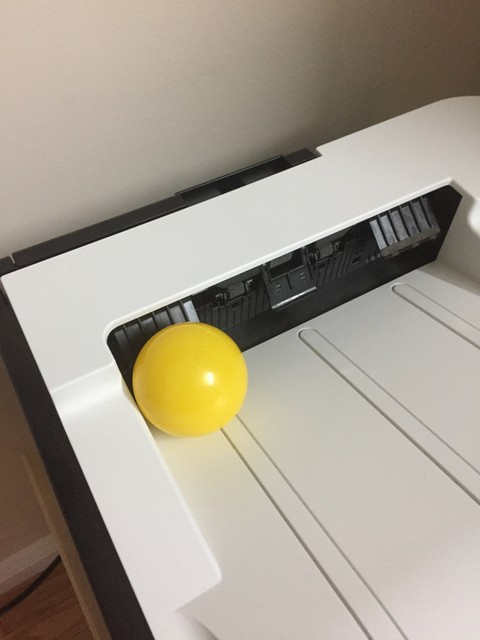ball: (131, 321, 249, 435)
